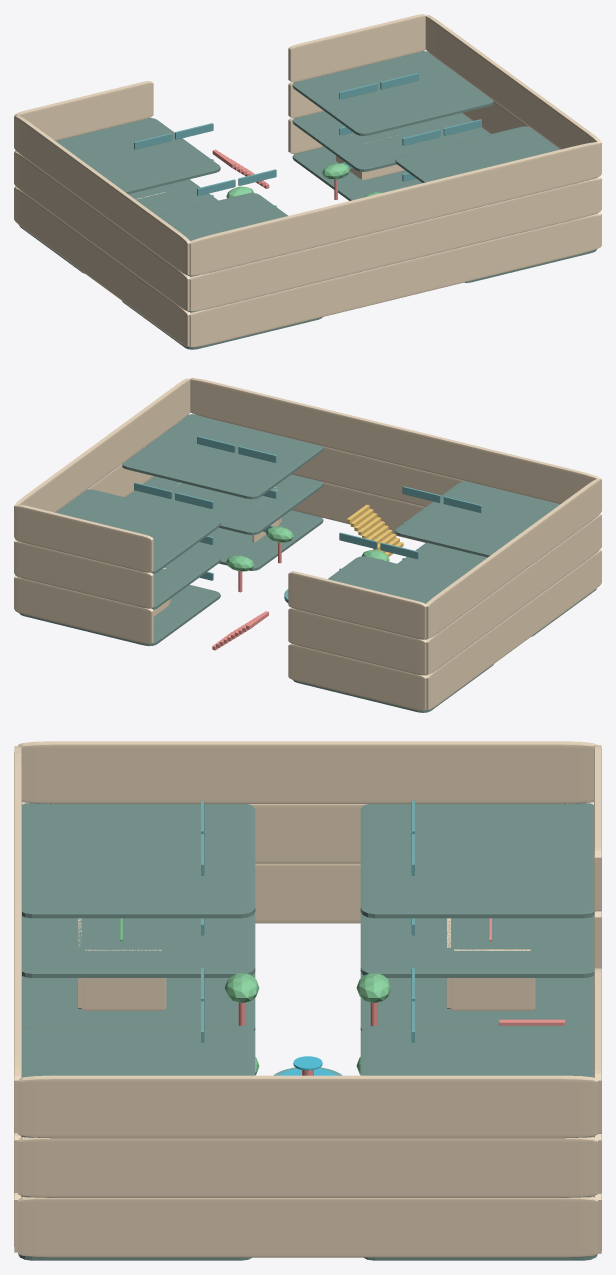
The model's file is grove_architecture.glb.
3 views of the same model, one above another, from view 1: azimuth 30°, elevation 25°; view 2: azimuth 150°, elevation 25°; view 3: azimuth 270°, elevation 25° (orthographic). The views are drawn at different scales.
Parts seen in each view (by area): view 1: North_Wall_12.5, North_Wall_2.5, North_Wall_7.5, Floor_3_SE, West_Wall_12.5, Floor_3_SW, West_Wall_2.5, West_Wall_7.5, East_Wall_12.5, South_Wall_R_12.5, Floor_2_SE, Floor_3_NE (+7 smaller); view 2: North_Wall_12.5, Floor_3_NE, West_Wall_12.5, Floor_3_NW, West_Wall_2.5, West_Wall_7.5, East_Wall_12.5, South_Wall_R_12.5, Floor_3_SE, South_Wall_L_12.5, South_Wall_R_7.5, South_Wall_R_2.5 (+11 smaller); view 3: East_Wall_12.5, West_Wall_12.5, East_Wall_2.5, East_Wall_7.5, Floor_3_SW, Floor_3_NW, Floor_2_NW, Floor_2_SW, Floor_3_NE, Floor_3_SE, Floor_1_NW, Floor_1_SW (+11 smaller).
Part boxes in pixels (x1=…): North_Wall_12.5: x1=189, y1=142, x2=601, y2=275; North_Wall_2.5: x1=189, y1=213, x2=601, y2=347; North_Wall_7.5: x1=189, y1=178, x2=601, y2=311; Floor_3_SE: x1=292, y1=51, x2=493, y2=135; West_Wall_12.5: x1=14, y1=115, x2=190, y2=275; Floor_3_SW: x1=56, y1=118, x2=220, y2=194; West_Wall_2.5: x1=14, y1=187, x2=190, y2=346; West_Wall_7.5: x1=14, y1=151, x2=190, y2=310; East_Wall_12.5: x1=425, y1=15, x2=601, y2=174; South_Wall_R_12.5: x1=288, y1=14, x2=425, y2=82; Floor_2_SE: x1=292, y1=111, x2=490, y2=171; Floor_3_NE: x1=395, y1=126, x2=596, y2=182; North_Wall_12.5: x1=190, y1=378, x2=601, y2=503; Floor_3_NE: x1=122, y1=414, x2=323, y2=499; West_Wall_12.5: x1=426, y1=478, x2=601, y2=638; Floor_3_NW: x1=395, y1=481, x2=559, y2=557; West_Wall_2.5: x1=426, y1=550, x2=601, y2=709; West_Wall_7.5: x1=426, y1=515, x2=601, y2=674; East_Wall_12.5: x1=14, y1=378, x2=190, y2=537; South_Wall_R_12.5: x1=14, y1=504, x2=153, y2=572; Floor_3_SE: x1=55, y1=489, x2=220, y2=573; South_Wall_L_12.5: x1=288, y1=571, x2=426, y2=639; South_Wall_R_7.5: x1=14, y1=541, x2=153, y2=608; South_Wall_R_2.5: x1=14, y1=576, x2=153, y2=644; East_Wall_12.5: x1=18, y1=1075, x2=597, y2=1138; West_Wall_12.5: x1=18, y1=741, x2=597, y2=803; East_Wall_2.5: x1=18, y1=1196, x2=597, y2=1257; East_Wall_7.5: x1=18, y1=1137, x2=597, y2=1197; Floor_3_SW: x1=360, y1=803, x2=594, y2=918; Floor_3_NW: x1=22, y1=803, x2=255, y2=918; Floor_2_NW: x1=22, y1=912, x2=255, y2=977; Floor_2_SW: x1=360, y1=912, x2=594, y2=977; Floor_3_NE: x1=21, y1=1025, x2=255, y2=1137; Floor_3_SE: x1=360, y1=1025, x2=594, y2=1137; Floor_1_NW: x1=22, y1=972, x2=255, y2=1031; Floor_1_SW: x1=360, y1=972, x2=593, y2=1031.
Bounding box in the file's own units: 60.6 × 15.4 × 44.6.
